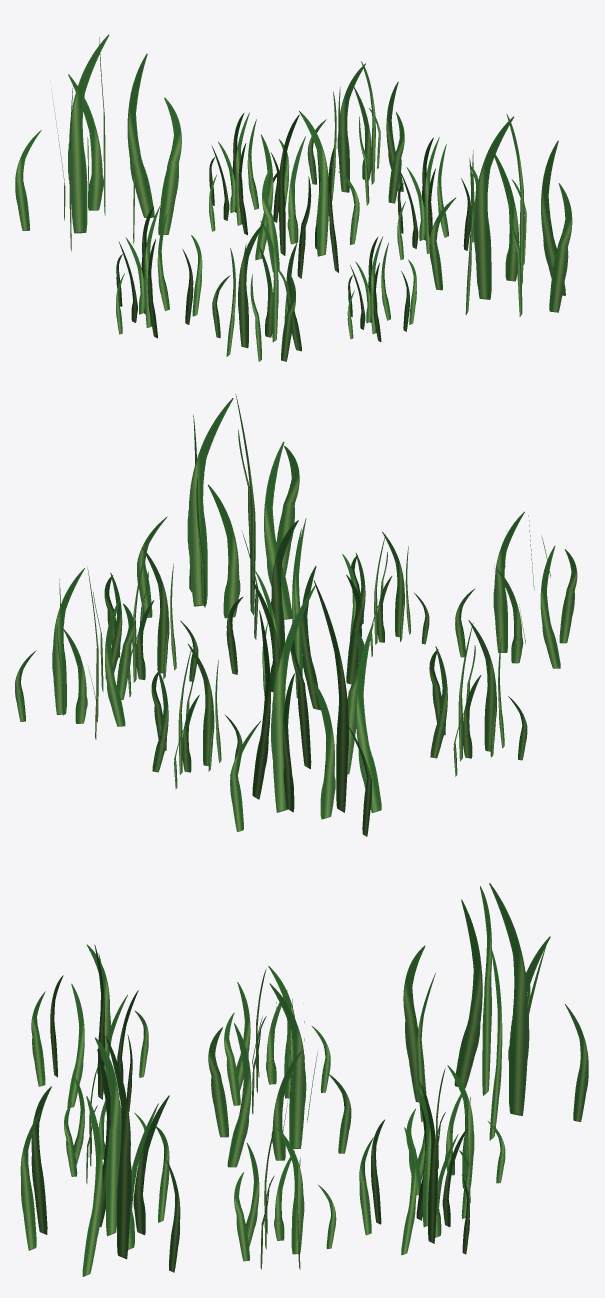
File: Grass.FBX
The picture shows the model from 3 angles, top to bottom: view 1: azimuth 30°, elevation 25°; view 2: azimuth 150°, elevation 25°; view 3: azimuth 270°, elevation 25°; orthographic projection. The views are drawn at different scales.
Visible parts, largest first — view 1: Grass; view 2: Grass; view 3: Grass.
Part boxes in pixels (box(x1,y1,x2,y2)): Grass: box(15, 34, 572, 361); Grass: box(15, 394, 577, 836); Grass: box(20, 883, 588, 1276).
Size of the model in its own units: 114 by 59.44 by 129.
Materials: 1 (1 with a texture image).
